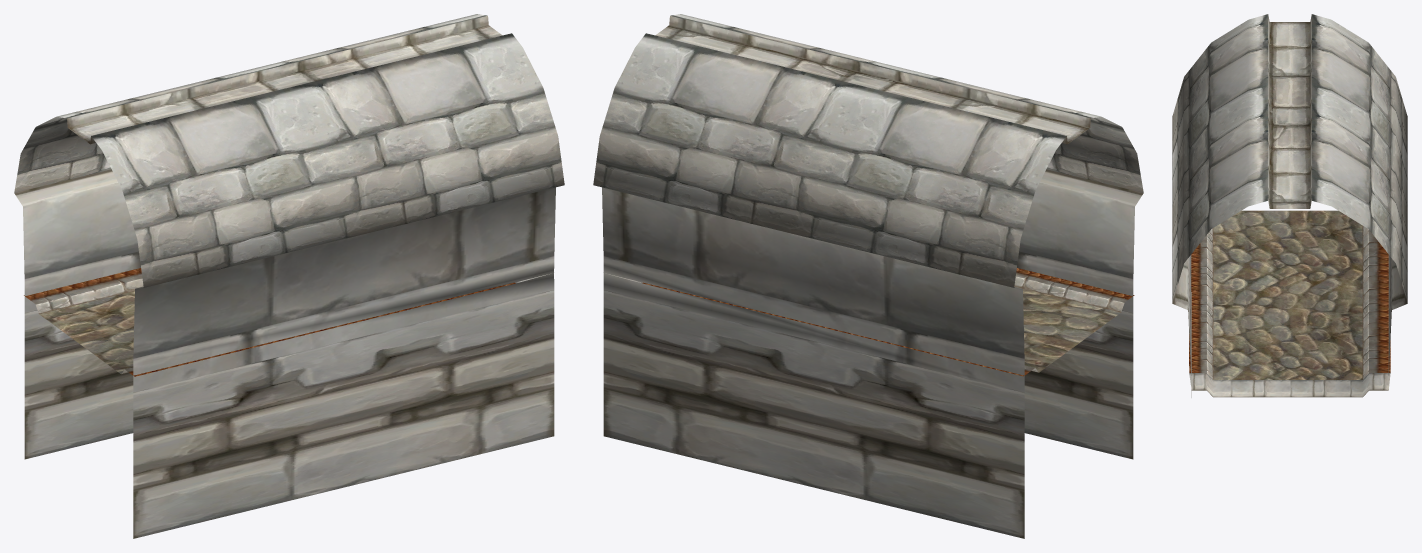
File: stormwind_004.fbx
3 views of the same model, side by side, from view 1: azimuth 30°, elevation 25°; view 2: azimuth 150°, elevation 25°; view 3: azimuth 270°, elevation 25° (orthographic). The views are drawn at different scales.
Visible parts, largest first — view 1: stormwind_004_11, stormwind_004_4, stormwind_004_5, stormwind_004_46, stormwind_004_12; view 2: stormwind_004_11, stormwind_004_4, stormwind_004_5, stormwind_004_46, stormwind_004_12; view 3: stormwind_004_4, stormwind_004_46, stormwind_004_5, stormwind_004_12, stormwind_004_45, stormwind_004_11.
Boxes of the visible parts, x1,y1,x2,y2 form: stormwind_004_11: (14, 169, 555, 538); stormwind_004_4: (14, 14, 564, 287); stormwind_004_5: (67, 16, 502, 144); stormwind_004_46: (39, 291, 134, 373); stormwind_004_12: (24, 268, 515, 376); stormwind_004_11: (602, 169, 1143, 538); stormwind_004_4: (593, 14, 1143, 287); stormwind_004_5: (655, 15, 1090, 144); stormwind_004_46: (1023, 288, 1120, 372); stormwind_004_12: (642, 268, 1134, 376); stormwind_004_4: (1172, 14, 1407, 302); stormwind_004_46: (1213, 210, 1362, 379); stormwind_004_5: (1268, 16, 1311, 208); stormwind_004_12: (1189, 226, 1390, 379); stormwind_004_45: (1189, 373, 1390, 397); stormwind_004_11: (1172, 255, 1407, 397).
Size of the model in its own units: 18.91 by 15.95 by 10.07.
